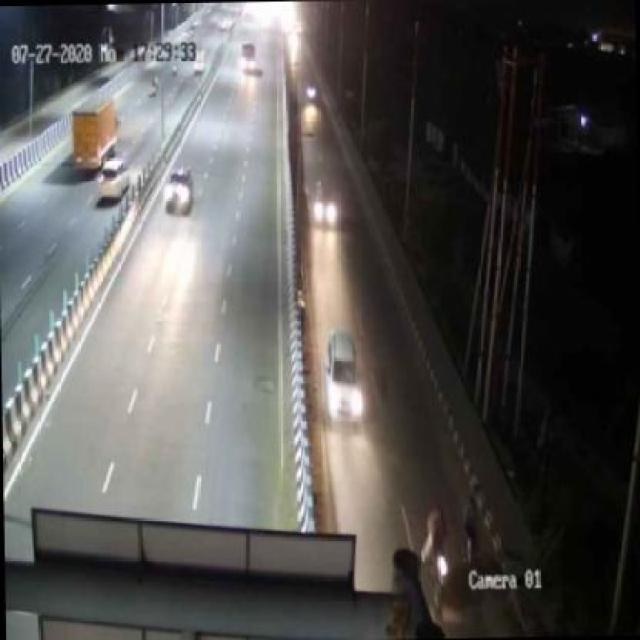car: (322, 332, 363, 423), (162, 156, 196, 216), (306, 183, 349, 228), (300, 76, 325, 106)
